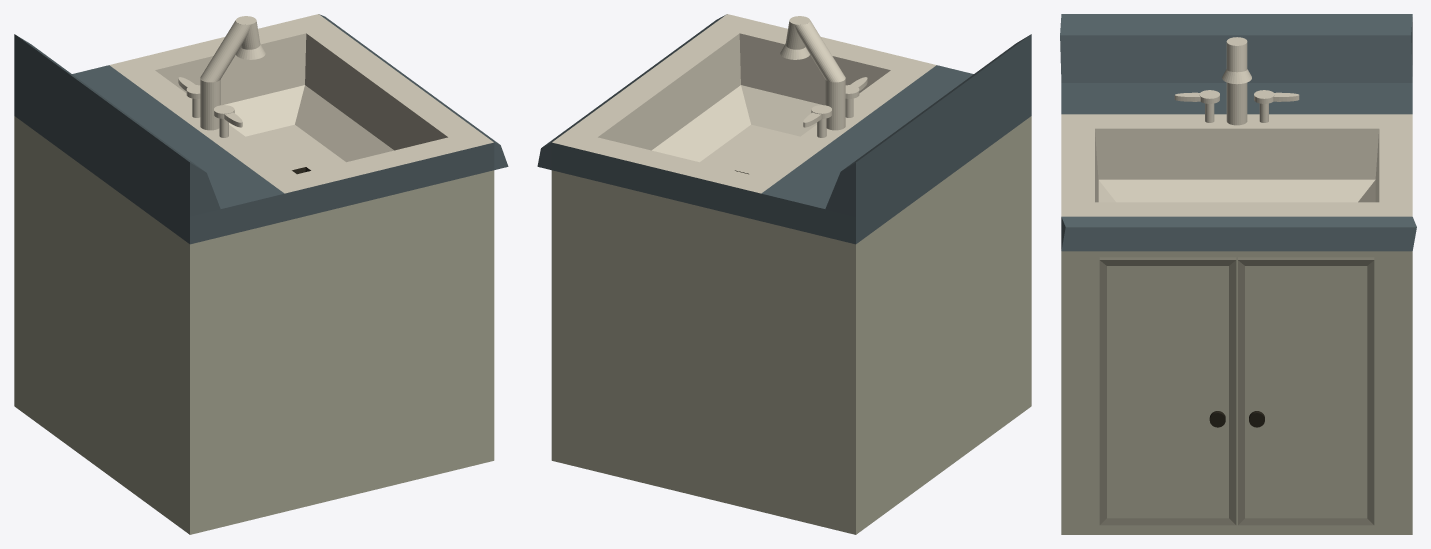
Rendered from Closed2DoorSinkCounterV1.fbx.
3 renders of one model, left to right at view 1: azimuth 30°, elevation 25°; view 2: azimuth 150°, elevation 25°; view 3: azimuth 270°, elevation 25°, orthographic.
Visible parts, largest first — view 1: Counter; view 2: Counter; view 3: Counter.
Boxes of the visible parts, bbox=[...] form: Counter: bbox=[14, 14, 508, 534]; Counter: bbox=[537, 14, 1031, 534]; Counter: bbox=[1060, 14, 1416, 534].
Size of the model in its own units: 523 by 539 by 672.
